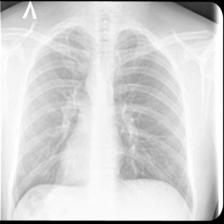tuberculosis: (11, 17, 196, 219)
